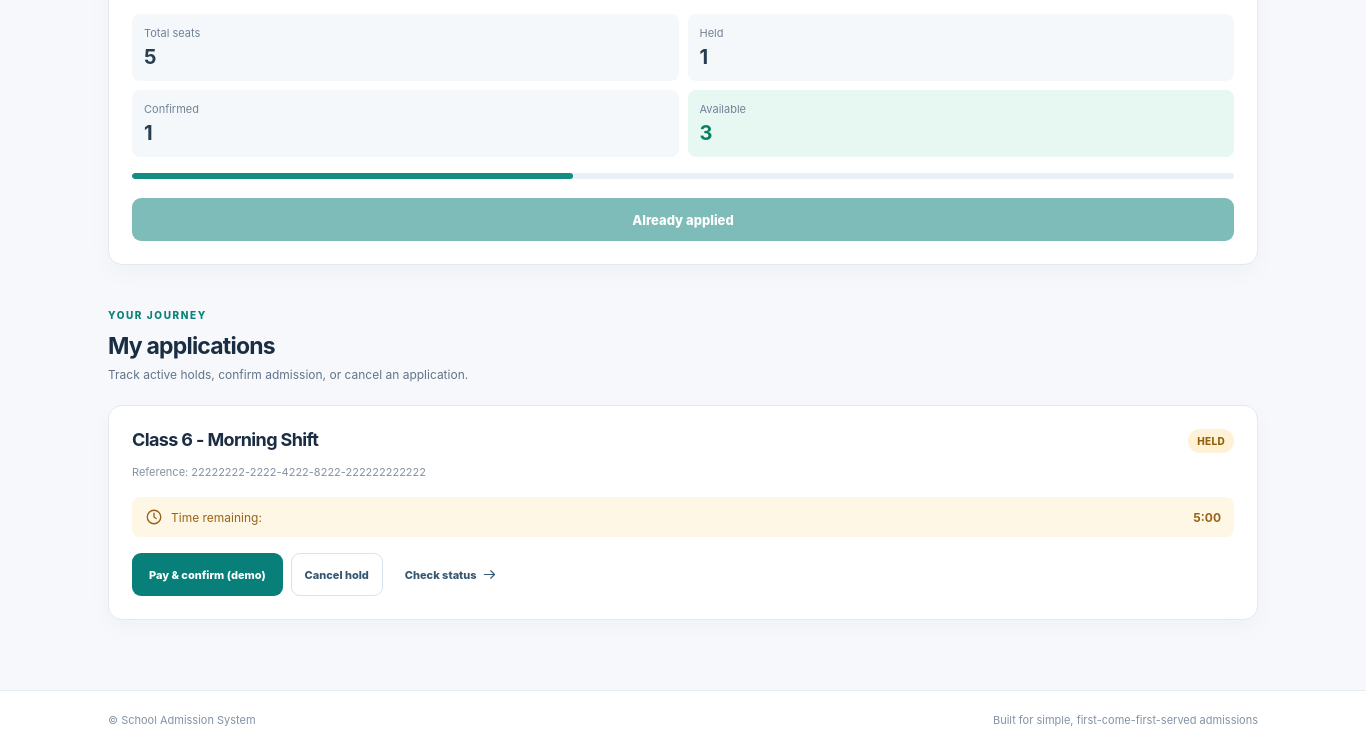
Scenario: School Admission frontend › allows confirmation and removes payment controls once confirmed
(page scrolled)
Click the button "Pay & confirm (demo)" at {"x": 207, "y": 574}, box left=132, top=553, right=283, bottom=596
(page scrolled)
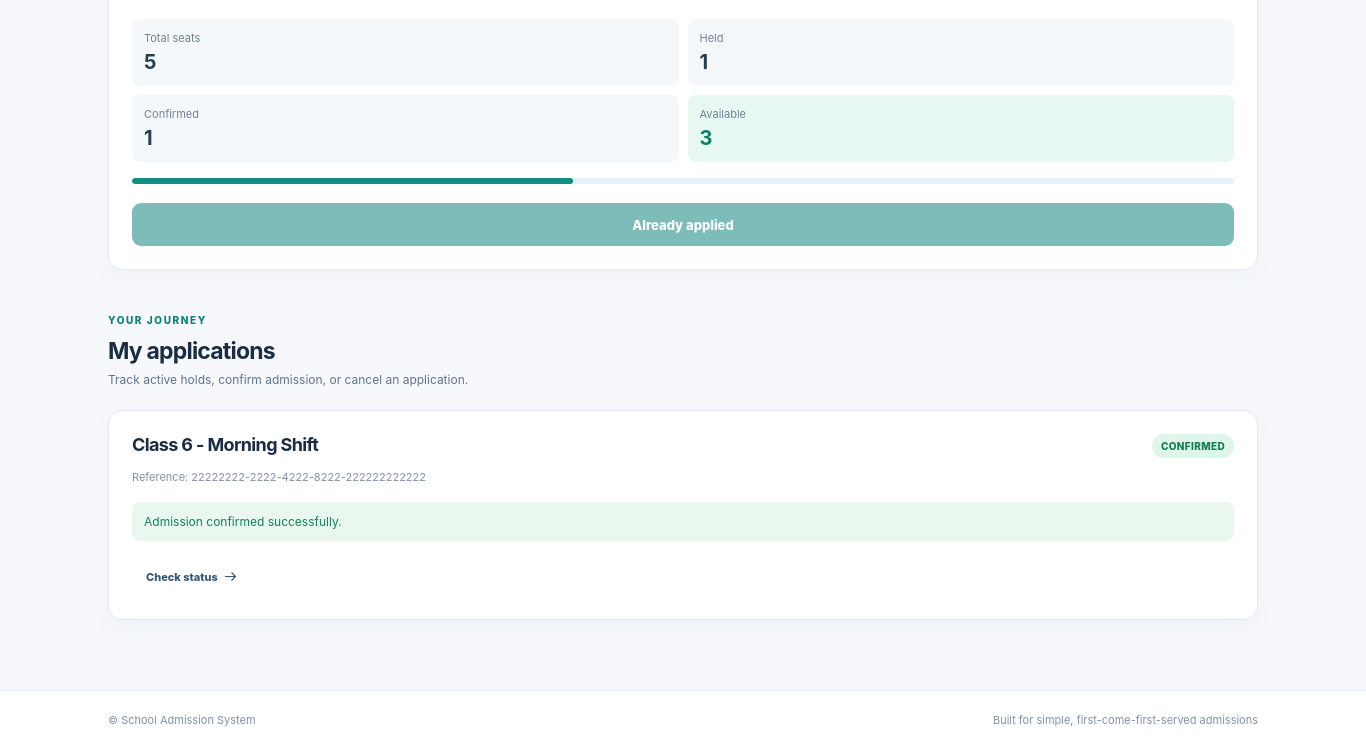
Expected: the text "Admission confirmed successfully." is shown, left=132, top=502, right=1234, bottom=541
Expected: the button "Pay & confirm" is gone
